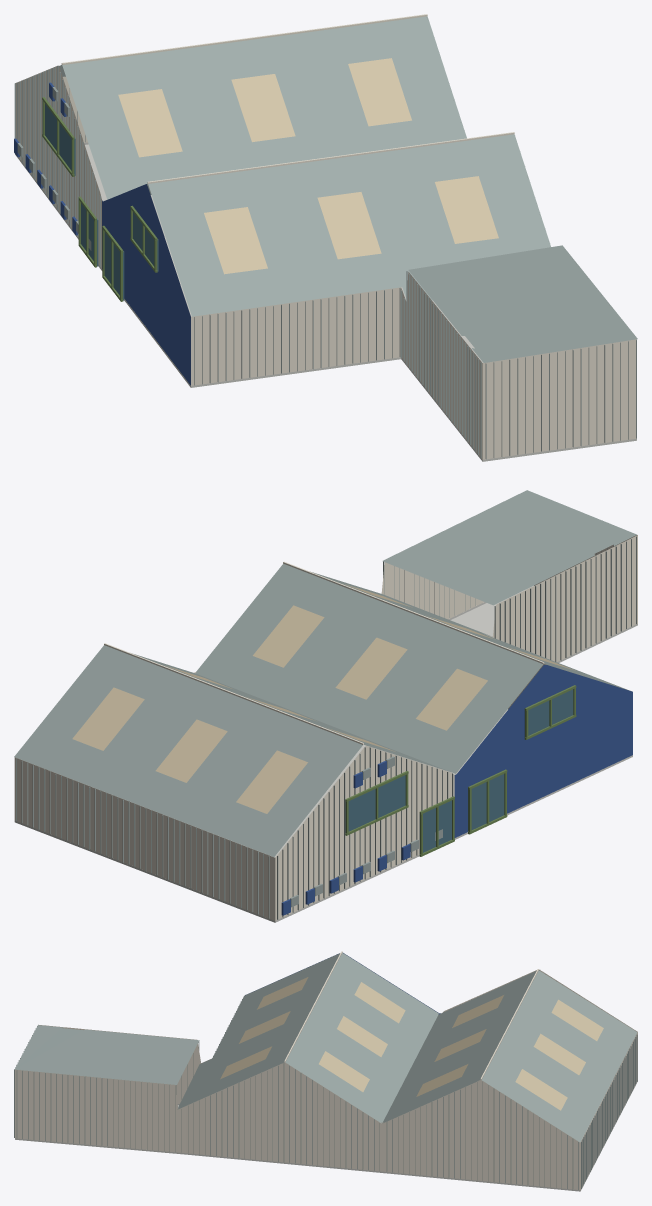
The model's file is nieuw-dakota.glb.
The picture shows the model from 3 angles, top to bottom: view 1: azimuth 30°, elevation 25°; view 2: azimuth 150°, elevation 25°; view 3: azimuth 270°, elevation 25°; orthographic projection. The views are drawn at different scales.
Visible parts, largest first — view 1: nieuw-dakota; view 2: nieuw-dakota; view 3: nieuw-dakota.
Boxes of the visible parts, x1=… form: nieuw-dakota: x1=14, y1=14, x2=637, y2=461; nieuw-dakota: x1=14, y1=490, x2=637, y2=922; nieuw-dakota: x1=14, y1=951, x2=637, y2=1191.
Bounding box in the file's own units: 26.51 × 8.73 × 47.53.
